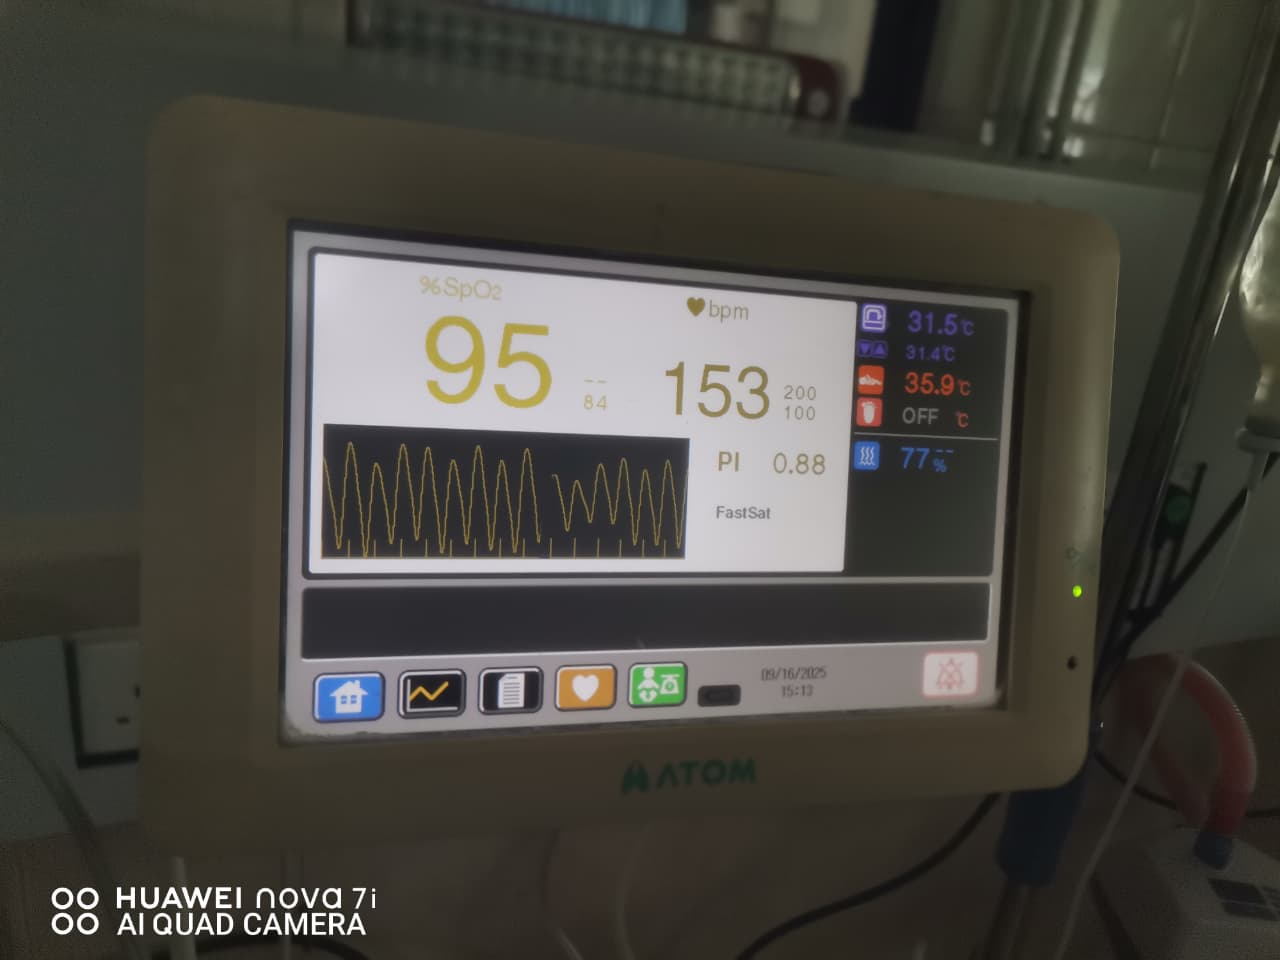heart_rate_value: (651, 341, 775, 430)
humidity_value: (892, 433, 930, 478)
skin_temp_value: (893, 363, 957, 404)
spo2_value: (406, 303, 566, 416)
